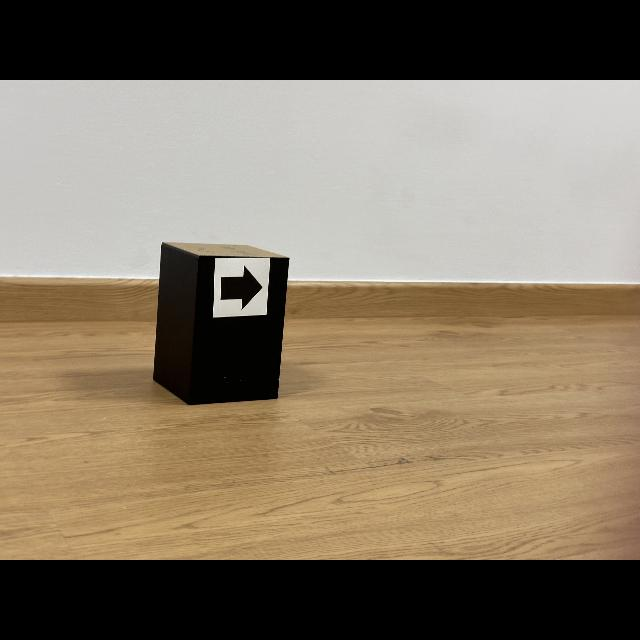RIGHT: (220, 266, 262, 309)
